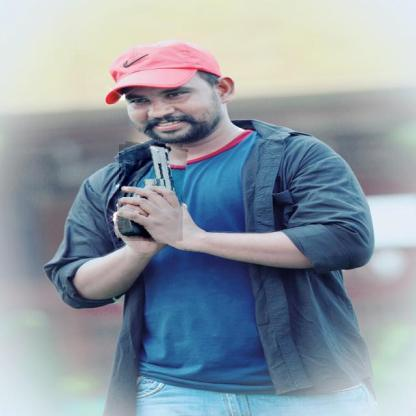handgun: (116, 142, 186, 242)
